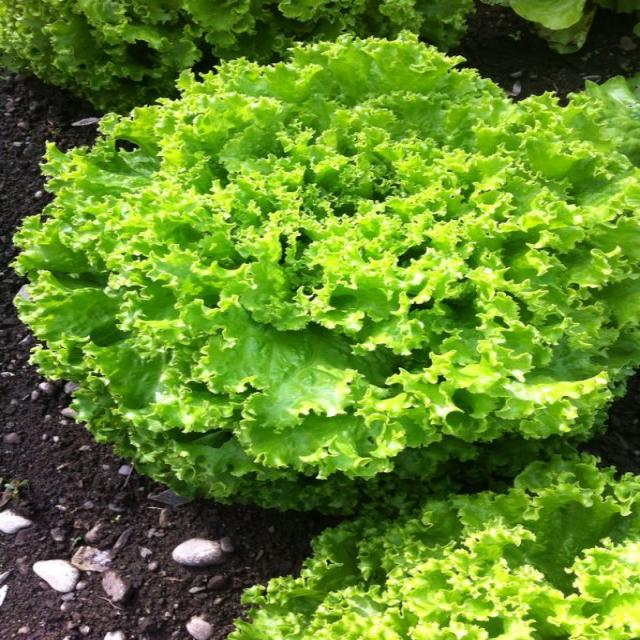lettuce: (17, 35, 639, 510), (230, 456, 639, 639), (0, 0, 472, 111), (483, 0, 639, 52), (574, 74, 639, 166)
